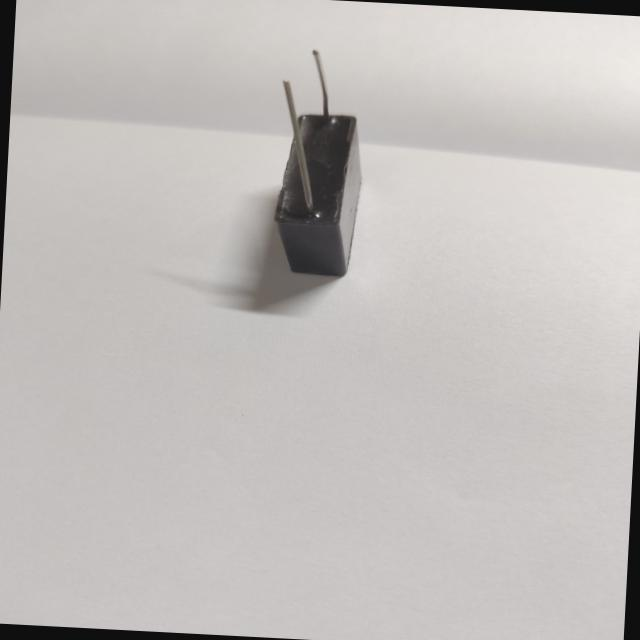capacitor: (245, 33, 400, 300)
